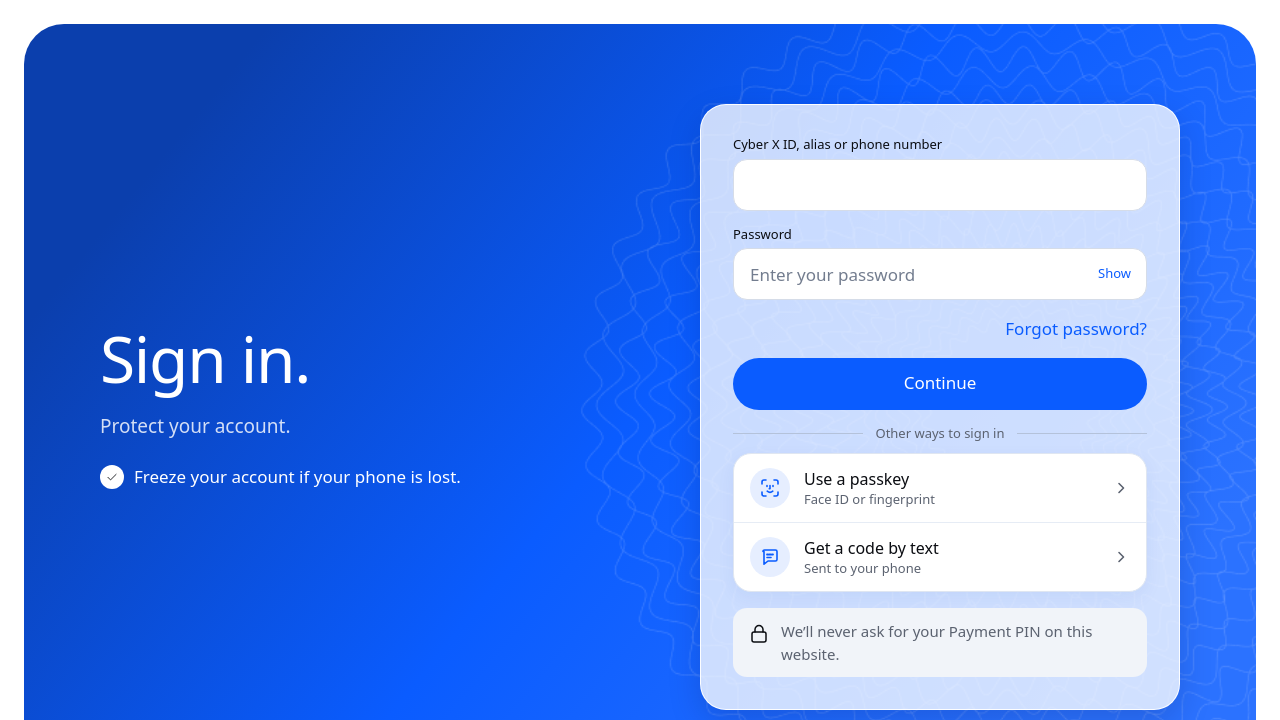
Test: the sign-in card (W2.1) › shows no code in test mode when the number isn't a test number
Click the button "Get a code by text Sent to your phone": (940,557) [734, 523, 1146, 591]
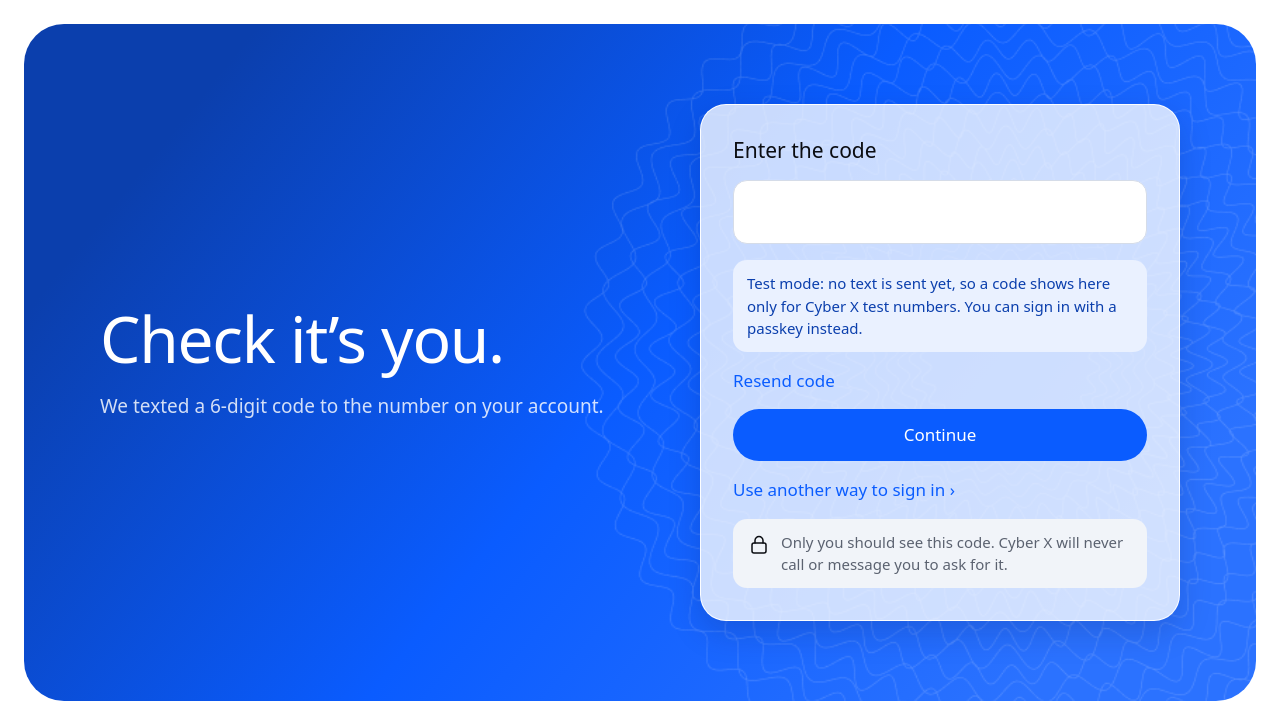
Expected: the text "a code shows here only for Cyber X test numbers" is shown, [747, 273, 1116, 338]
